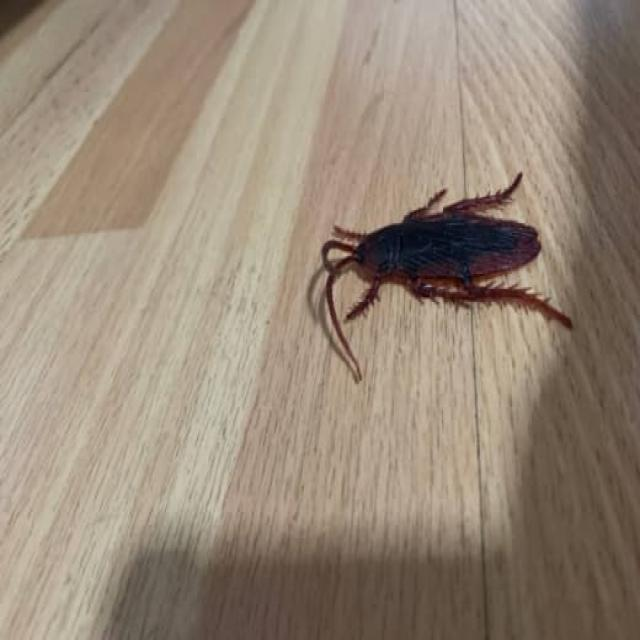Cockroach: (314, 179, 566, 356)
